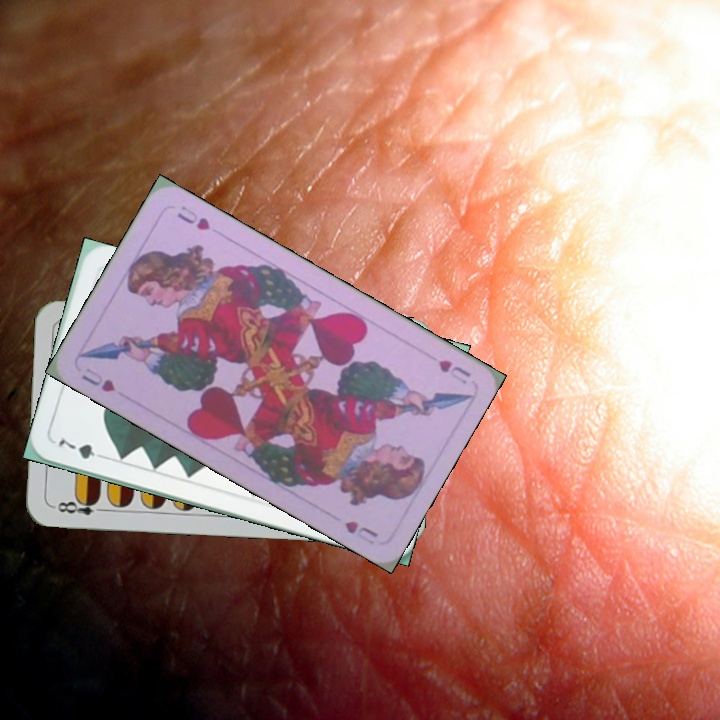E8: (53, 494, 109, 518)
G7: (54, 434, 110, 462)
HU: (433, 355, 474, 387), (78, 363, 118, 395)
